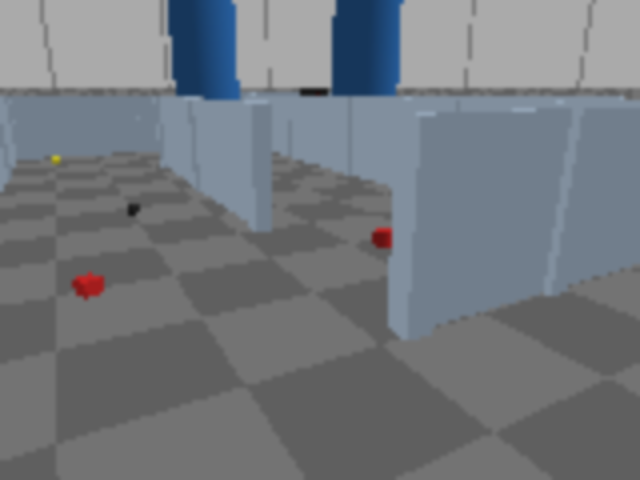puck: (73, 273, 104, 299), (373, 228, 393, 248), (123, 201, 143, 218)
